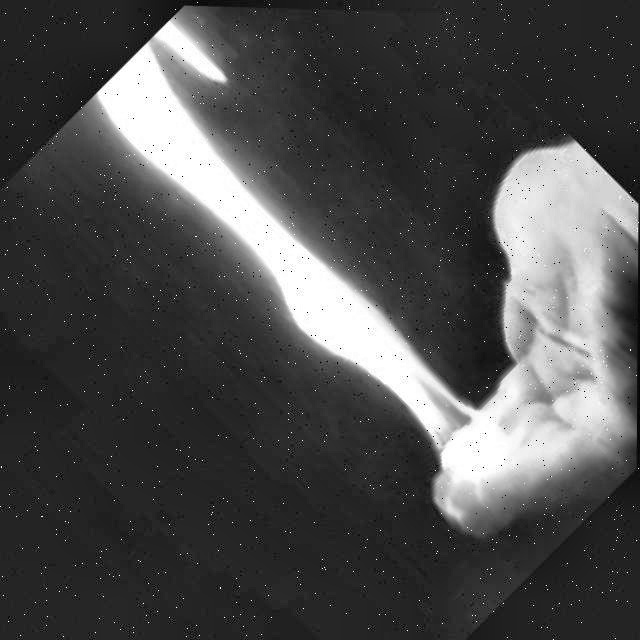Fire: (66, 10, 567, 510)
